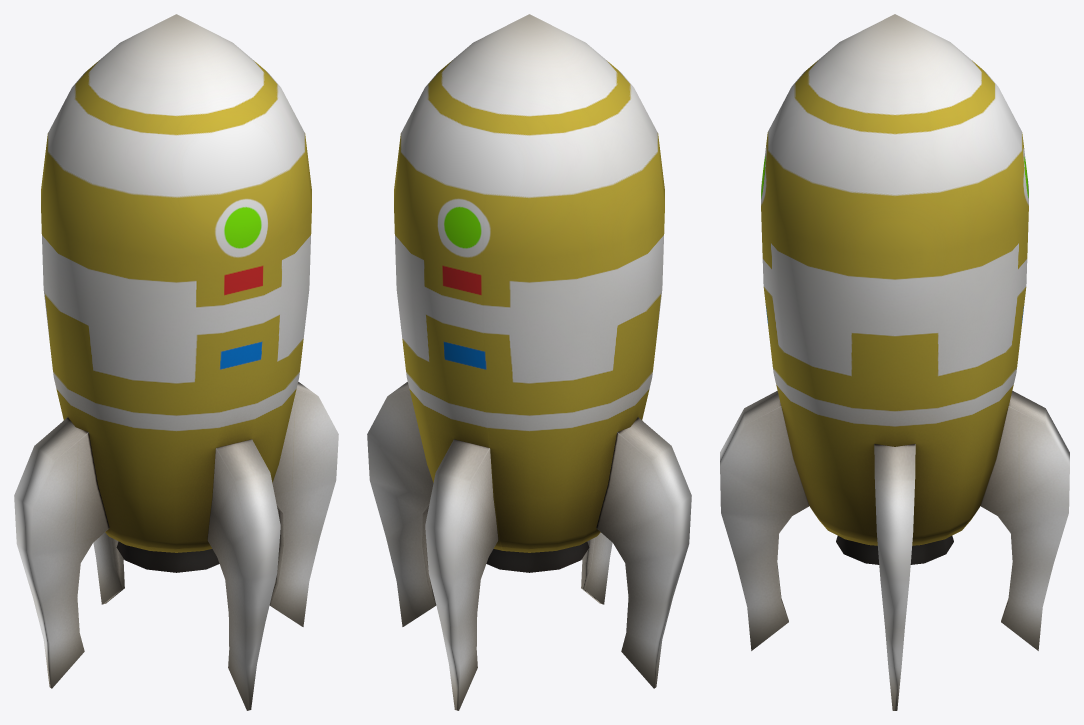
3 renders of one model, left to right at view 1: azimuth 30°, elevation 25°; view 2: azimuth 150°, elevation 25°; view 3: azimuth 270°, elevation 25°, orthographic.
Visible parts, largest first — view 1: S014; view 2: S014; view 3: S014.
Part boxes in pixels (bbox=[...]): S014: bbox=[14, 14, 338, 710]; S014: bbox=[367, 14, 691, 710]; S014: bbox=[720, 14, 1069, 710].
Size of the model in its own units: 31.75 by 63.71 by 31.75.
1 material, 1 textured.
